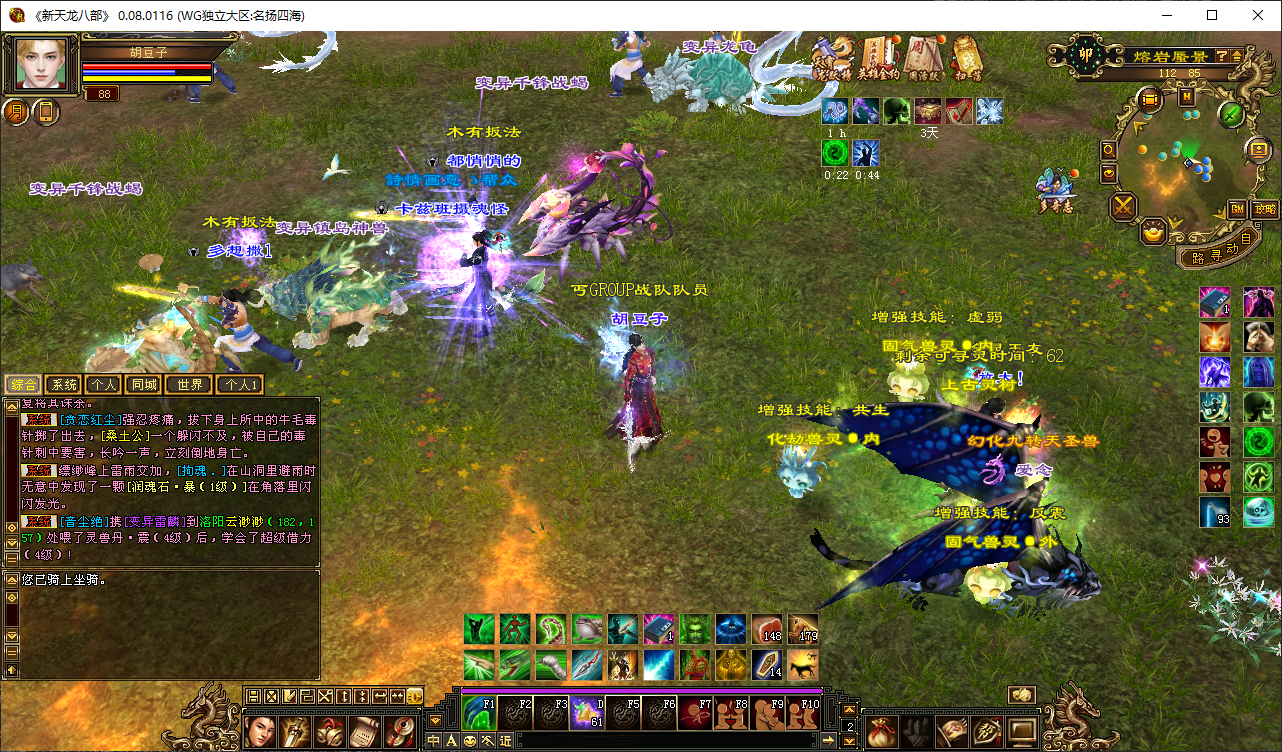cheap: (844, 293, 1012, 432), (916, 494, 1082, 630), (740, 384, 892, 522)
